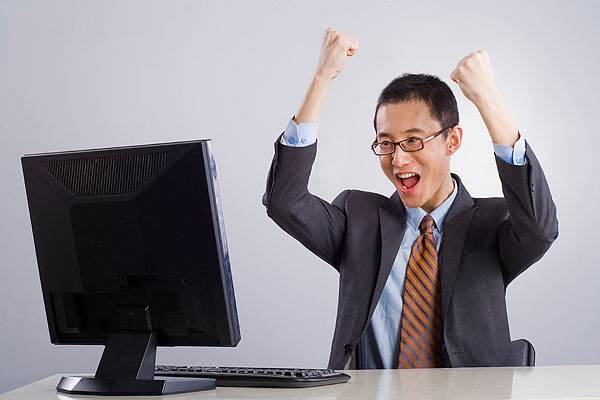no-phone: (449, 46, 496, 101), (316, 25, 359, 78)
